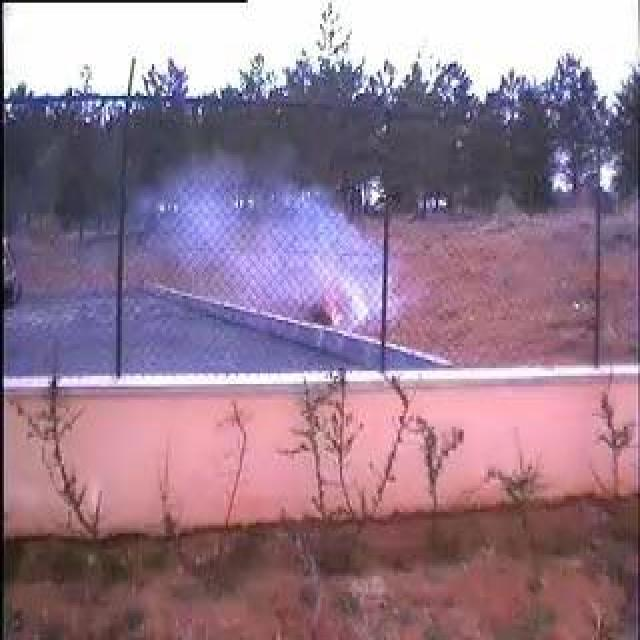Smoke: (117, 168, 397, 371)
